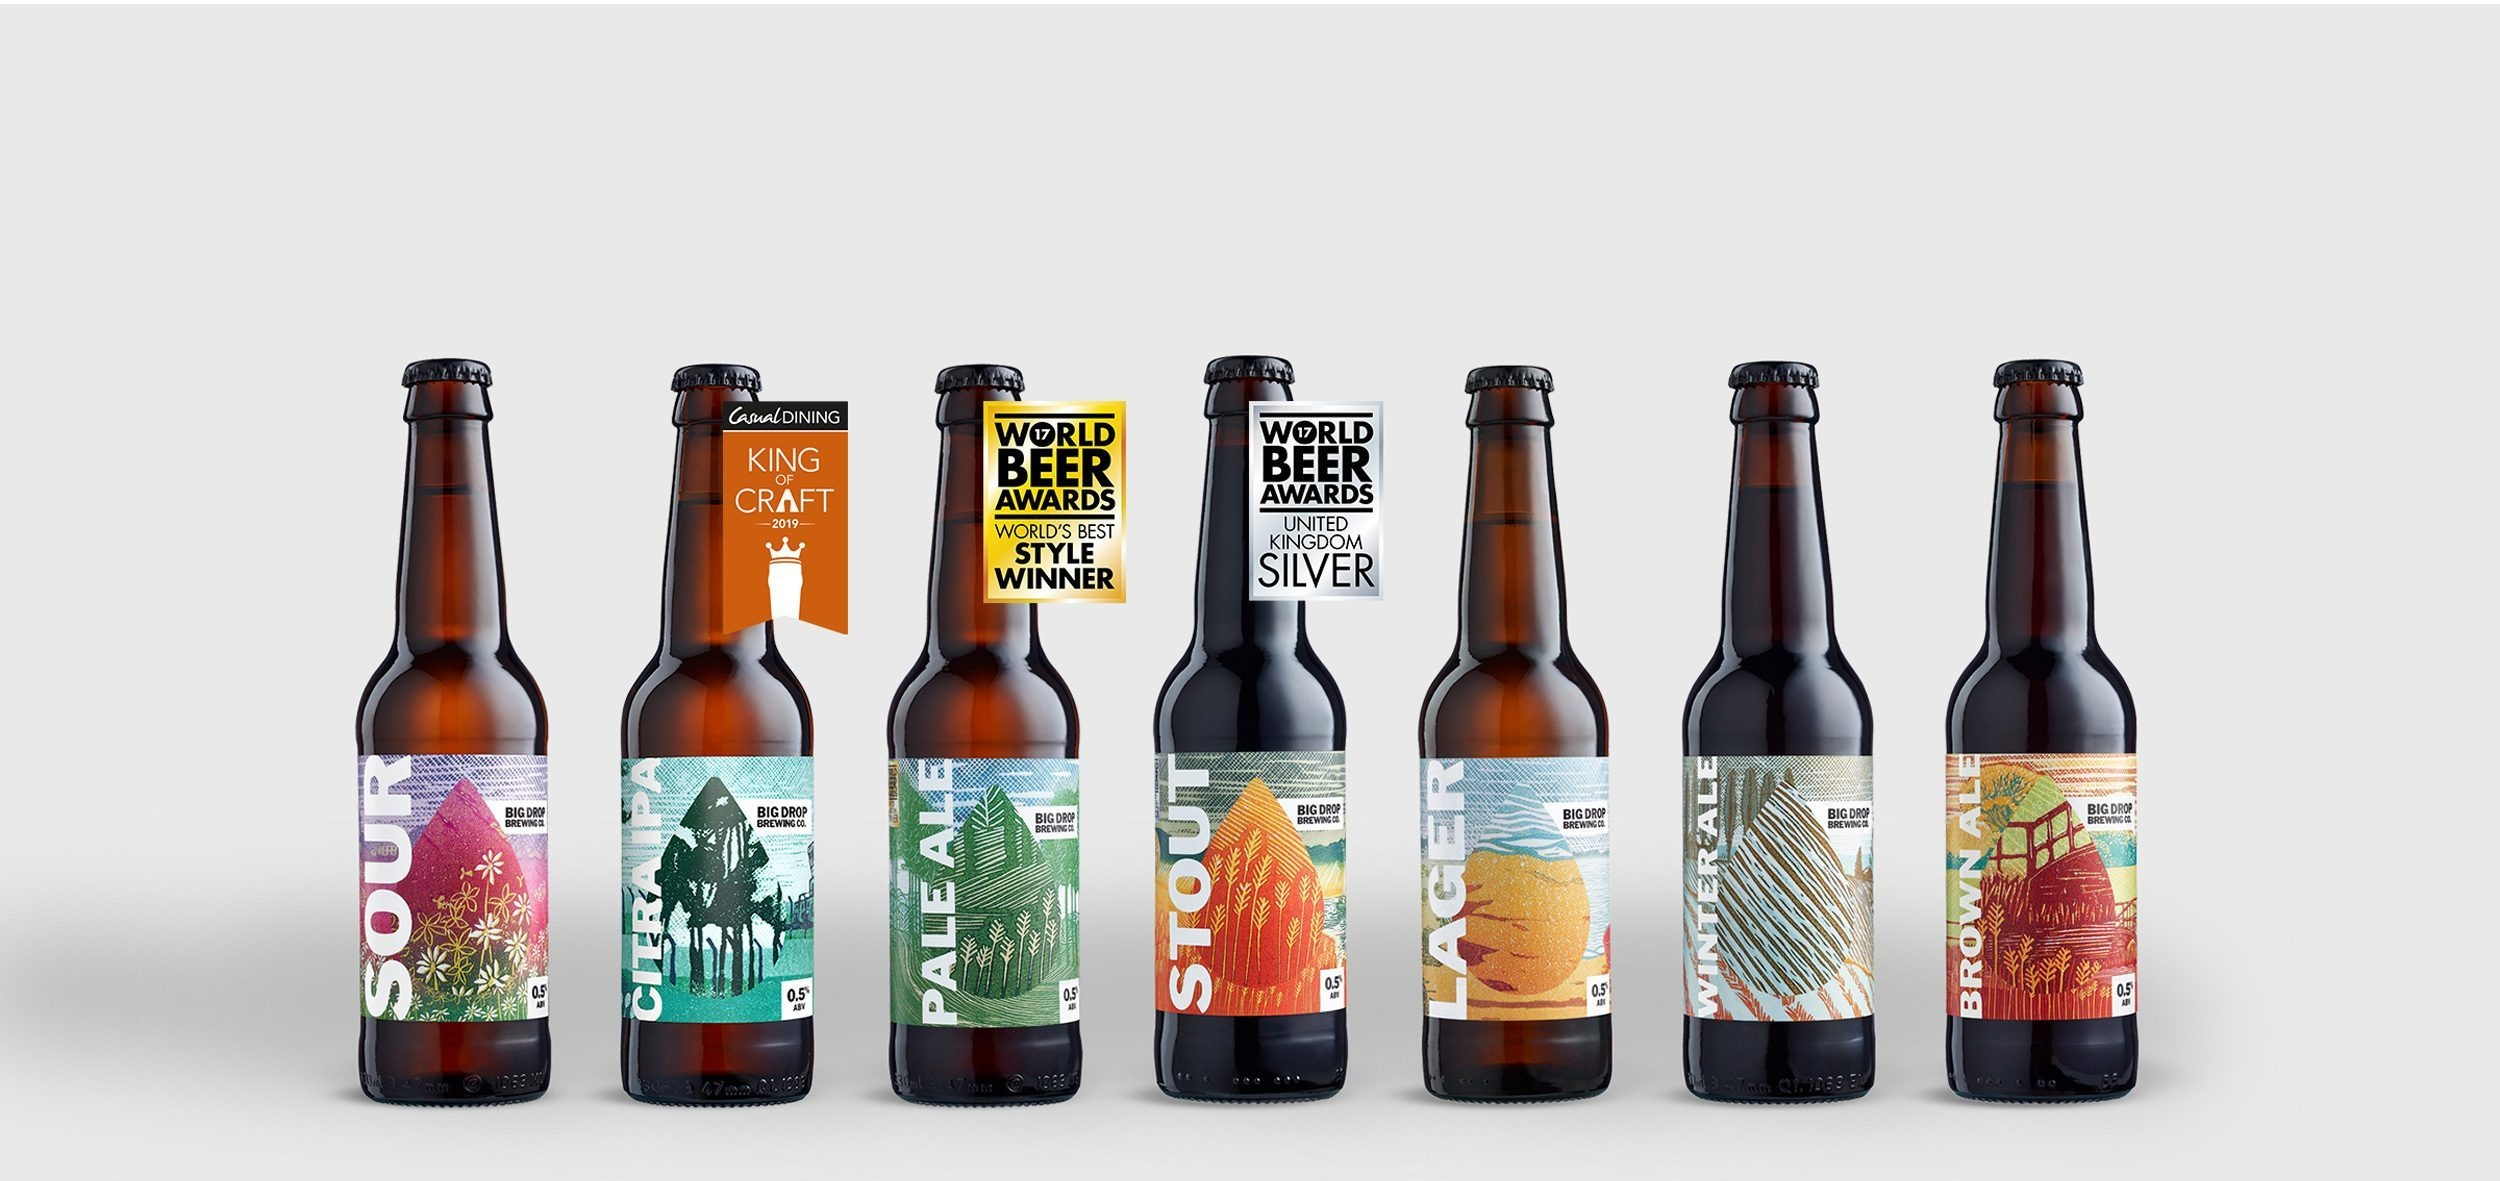beerBottle: (882, 367, 1084, 1100), (1676, 360, 1878, 1093), (352, 370, 555, 1101), (615, 367, 816, 1100), (1153, 360, 1354, 1093), (1409, 362, 1610, 1095), (1947, 355, 2148, 1089)
